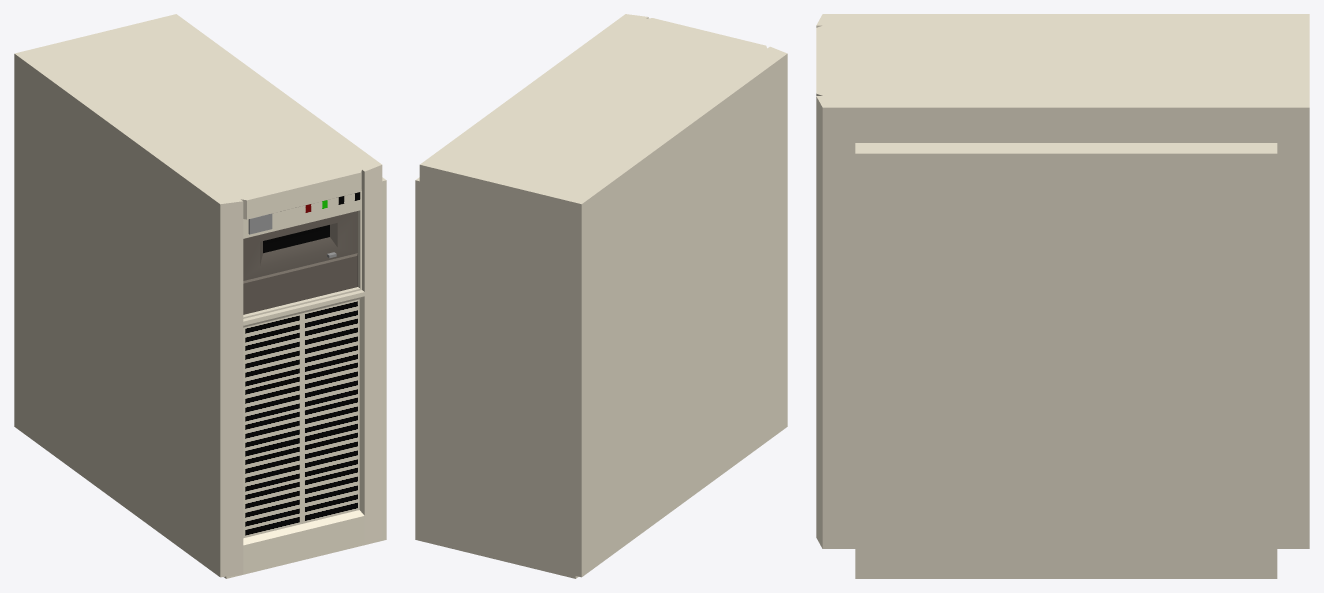
Rendered from SM_Desktop.fbx.
3 views of the same model, side by side, from view 1: azimuth 30°, elevation 25°; view 2: azimuth 150°, elevation 25°; view 3: azimuth 270°, elevation 25° (orthographic). The views are drawn at different scales.
Parts seen in each view (by area): view 1: SM_Desktop; view 2: SM_Desktop; view 3: SM_Desktop.
Boxes of the visible parts, x1,y1,x2,y2 form: SM_Desktop: (14,14,386,578); SM_Desktop: (415,14,787,578); SM_Desktop: (816,14,1309,578).
Size of the model in its own units: 0.3368 by 0.696 by 0.6755.
